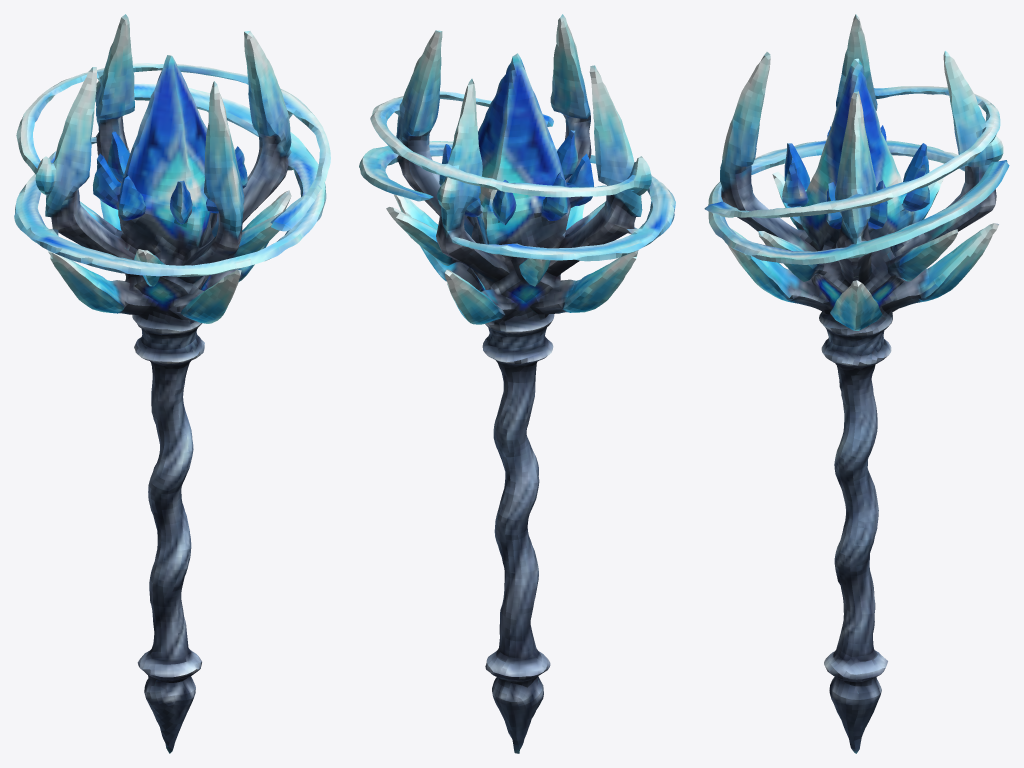
File: crystal-staff.glb
3 views of the same model, side by side, from view 1: azimuth 30°, elevation 25°; view 2: azimuth 150°, elevation 25°; view 3: azimuth 270°, elevation 25° (orthographic).
Visible parts, largest first — view 1: Object_5; view 2: Object_5; view 3: Object_5.
Boxes of the visible parts, bbox=[...] form: Object_5: bbox=[14, 14, 330, 753]; Object_5: bbox=[359, 14, 675, 753]; Object_5: bbox=[704, 14, 1009, 753].
Bounding box in the file's own units: 0.7901 × 1.92 × 0.7571.
Materials: 1 (1 with a texture image).
